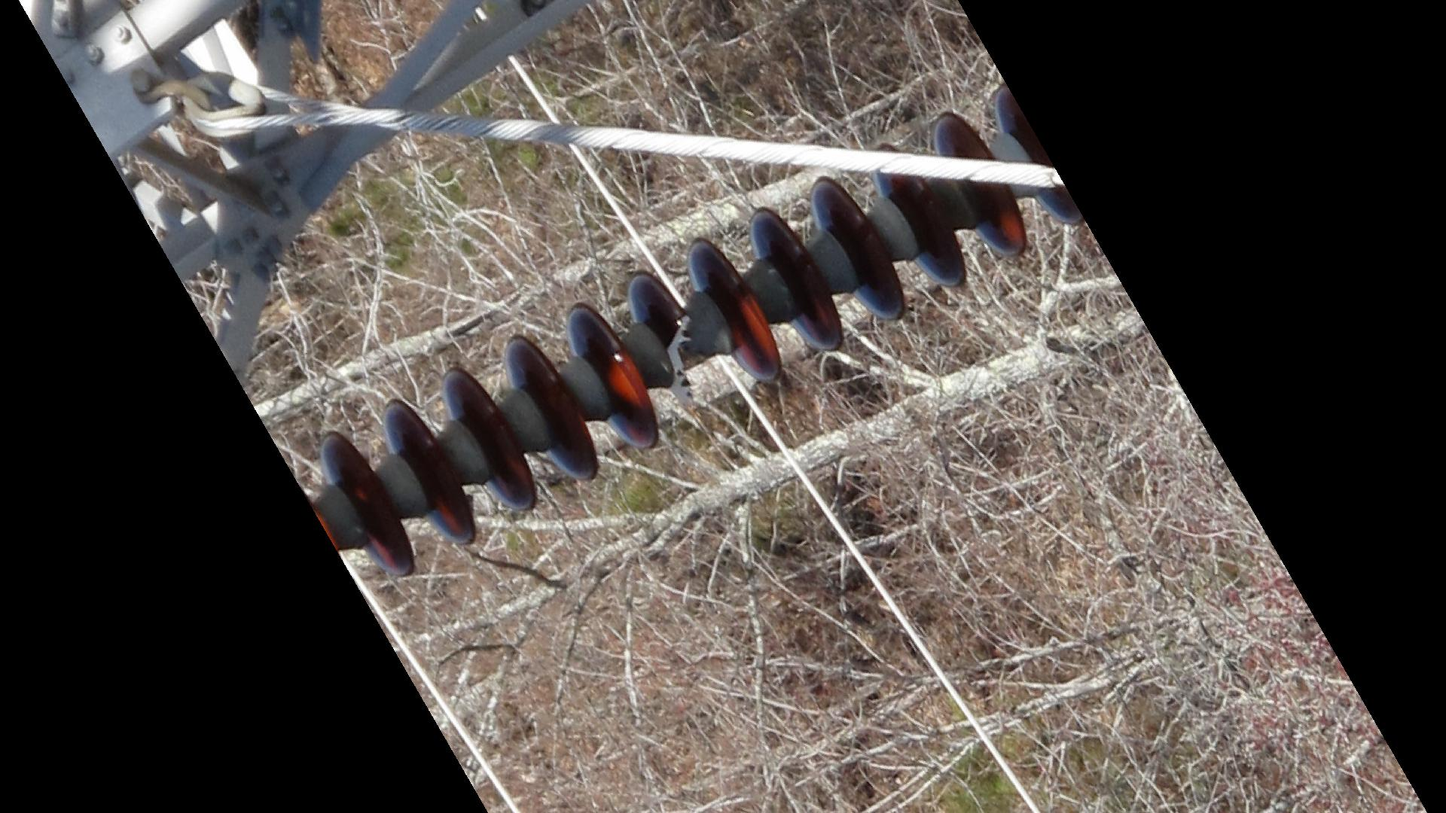insulator: (315, 74, 1087, 582)
insulator_breakage: (662, 308, 706, 416)
